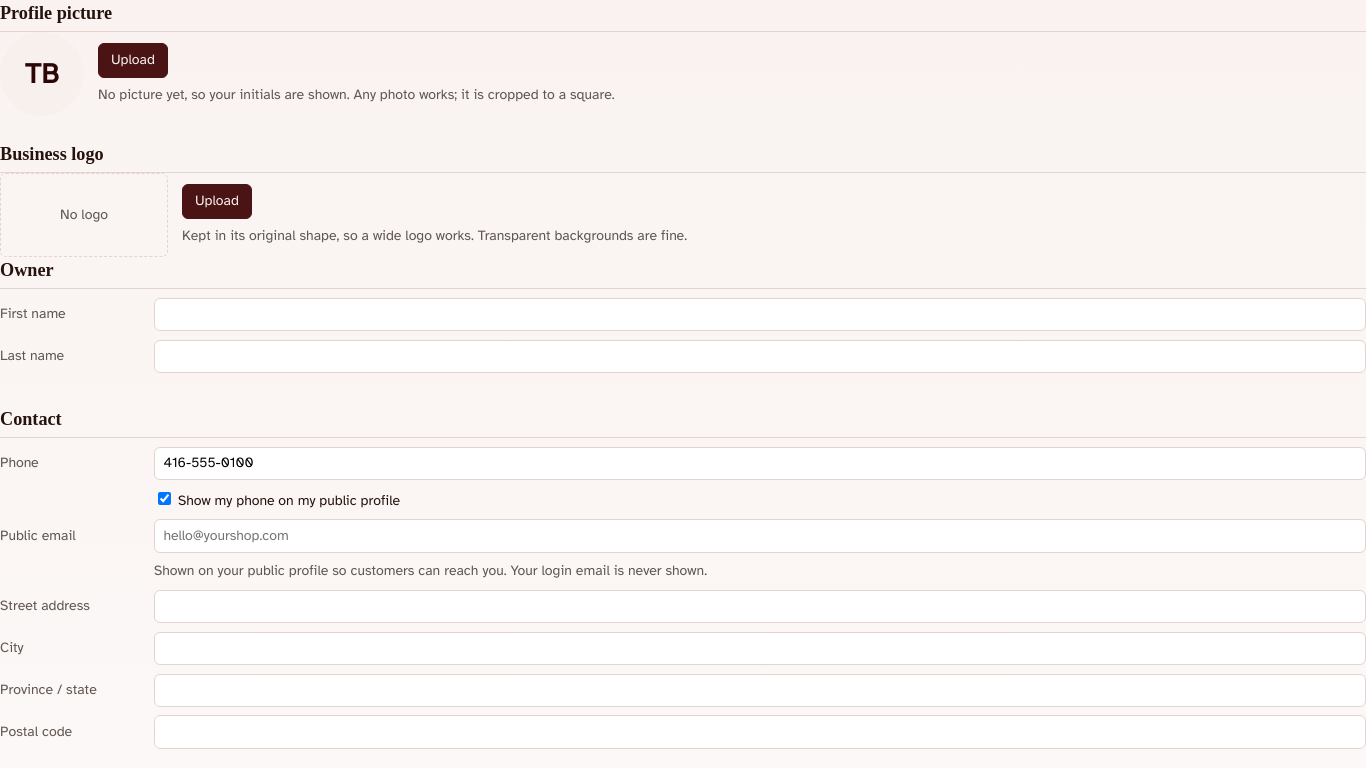
ProfileTab contact details › enables saving when only the phone checkbox changes
What coordinates should you click on to do the following:
click the checkbox labelled "Show my phone on my public profile"
I would click on:
 (164, 498)
Its box is [158,492,171,504].
(page scrolled)
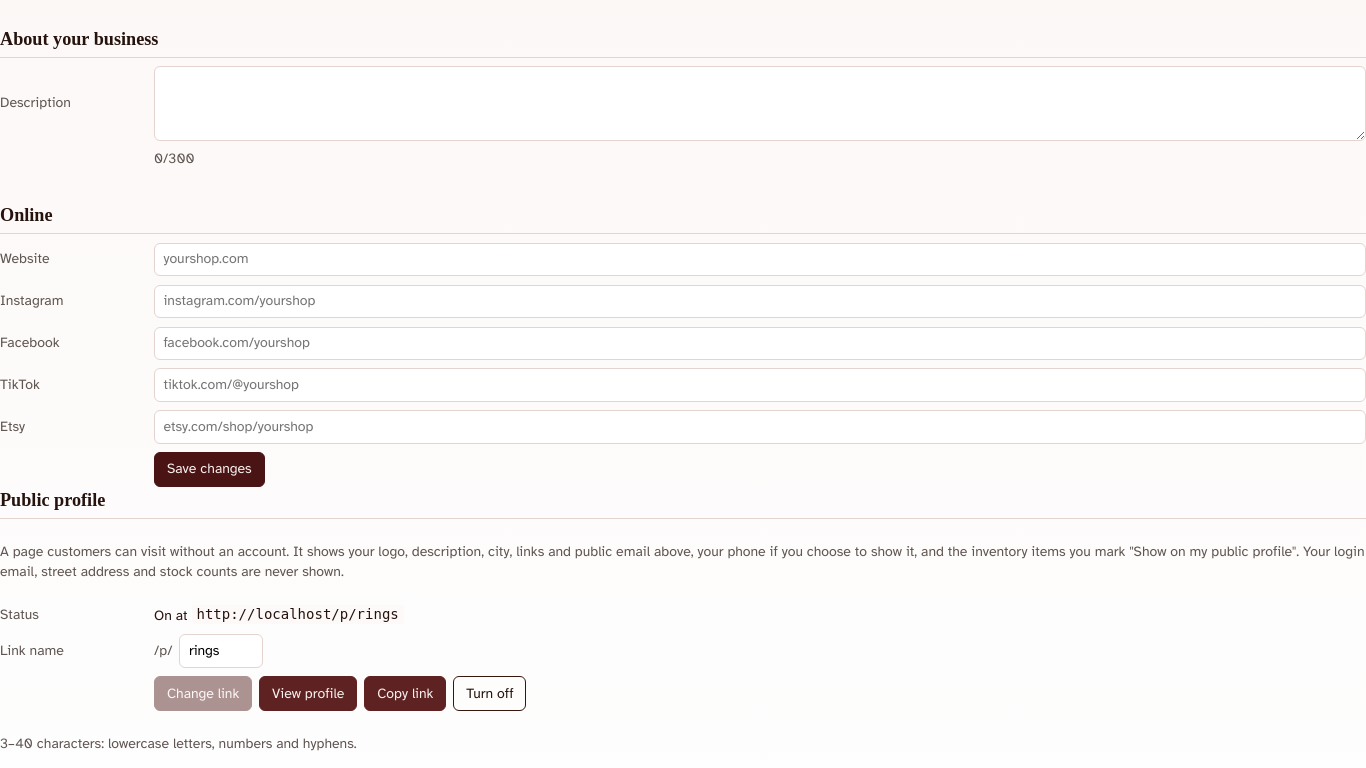
Check: the button "Save changes" is enabled, box [154,452,265,487]
